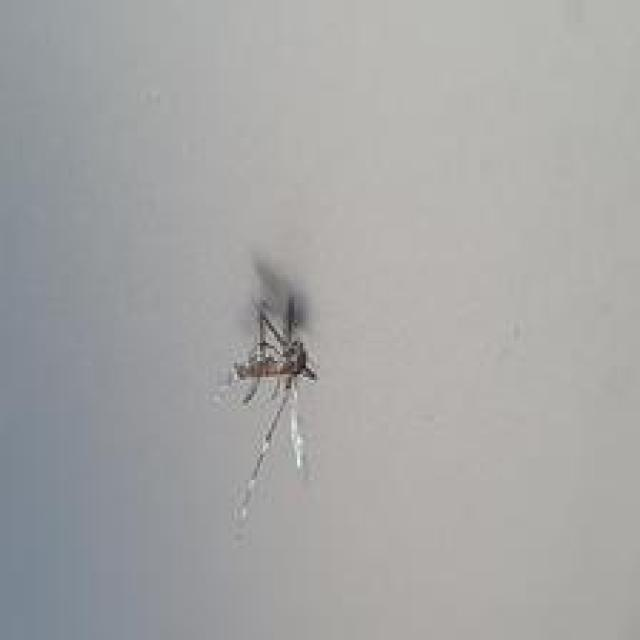Aedes albopictus: (217, 257, 320, 534)
